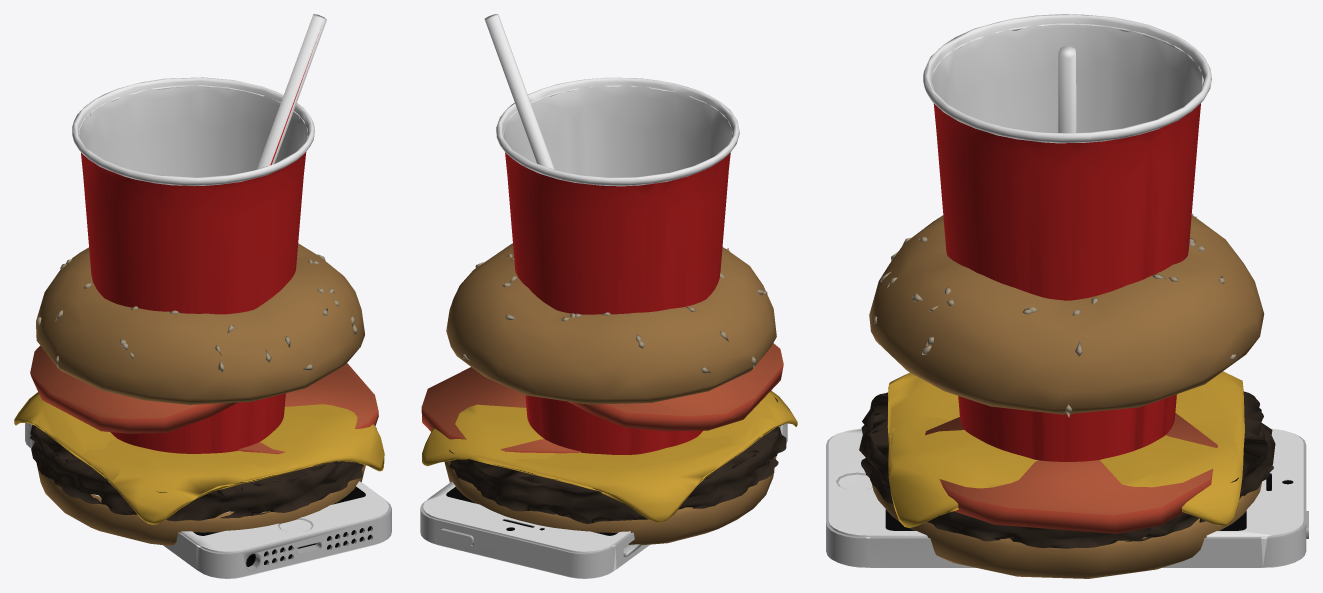
File: cibo.glb
3 views of the same model, side by side, from view 1: azimuth 30°, elevation 25°; view 2: azimuth 150°, elevation 25°; view 3: azimuth 270°, elevation 25° (orthographic). The views are drawn at different scales.
Visible parts, largest first — view 1: Food_Burger, Food_Drink, Prop_Phone; view 2: Food_Burger, Food_Drink, Prop_Phone; view 3: Food_Burger, Food_Drink, Prop_Phone.
Boxes of the visible parts, x1,y1,x2,y2 form: Food_Burger: (14, 243, 384, 545); Food_Drink: (72, 14, 326, 453); Prop_Phone: (25, 423, 391, 578); Food_Burger: (421, 243, 797, 545); Food_Drink: (484, 14, 739, 454); Prop_Phone: (420, 423, 787, 578); Food_Burger: (859, 213, 1275, 578); Food_Drink: (923, 14, 1211, 461); Prop_Phone: (826, 428, 1308, 567).
Bounding box in the file's own units: 0.1105 × 0.1501 × 0.1238.
